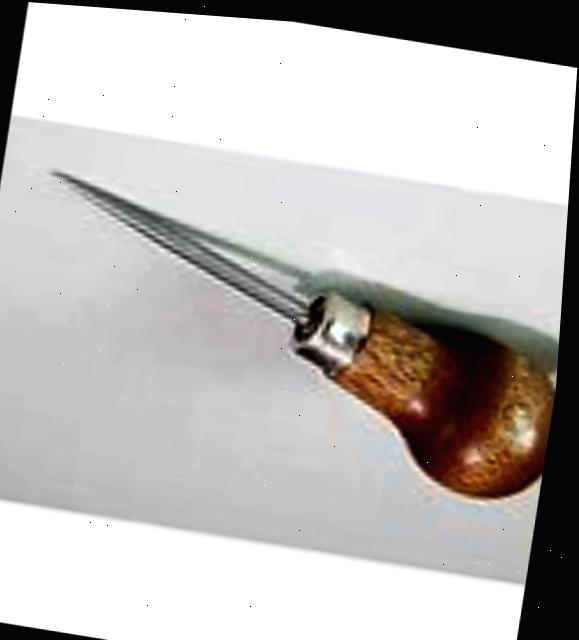ice pick: (10, 164, 571, 507)
